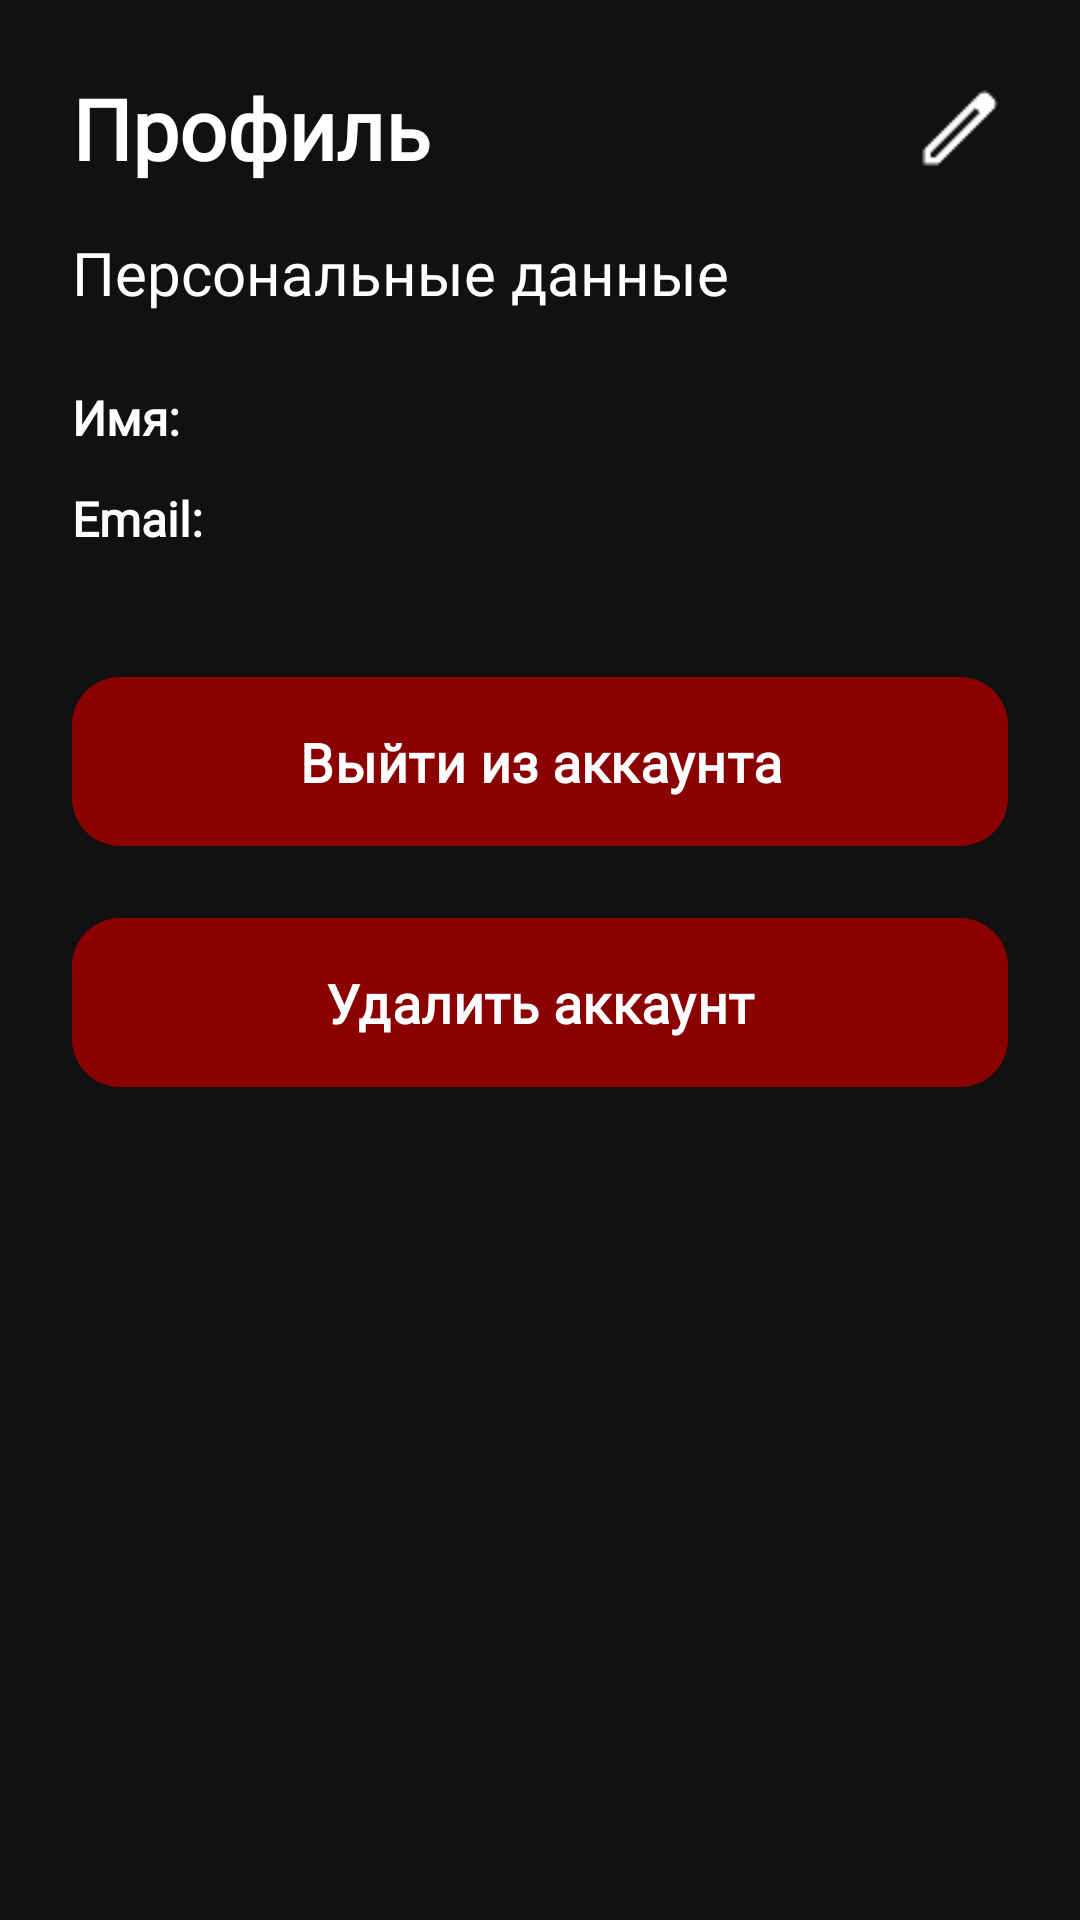

Named icons in this screenshot (1080px×1920px) and their bounding boxes, (x1, y1, x2, y2):
Редактировать: (922, 90, 998, 166)
